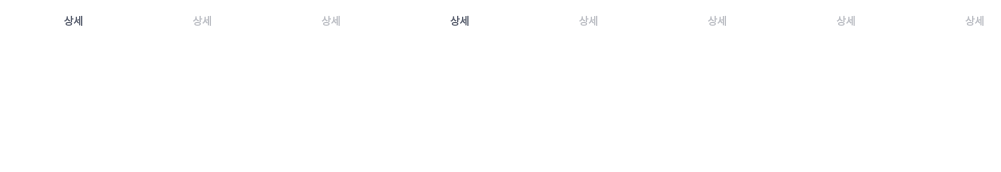
Test: SourceDetails › expands a strip cell into its detail lines and collapses again
Expected: the text "부가가치세 일반과세자" is not shown
Step 1. Click the button with aria-label "국세청 상세" → (460,23), box [398,12,521,34]
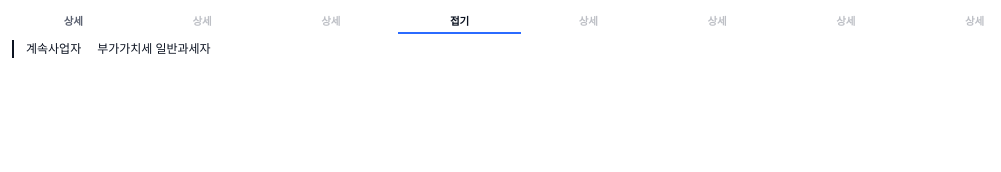
Expected: the list item "부가가치세 일반과세자" is shown, [97,40,211,58]
Step 2. Click the button with aria-label "국세청 상세" → (460,23), box [398,12,521,34]
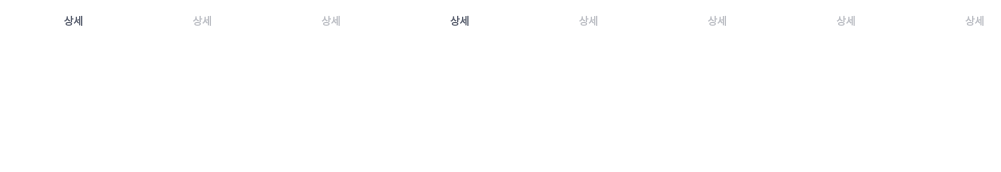
Expected: the list item "부가가치세 일반과세자" is gone
